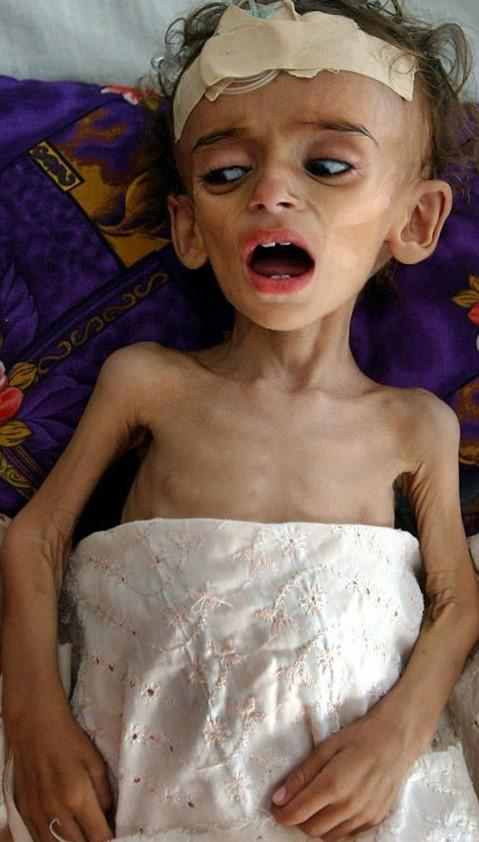Stunting: (164, 0, 479, 362)
